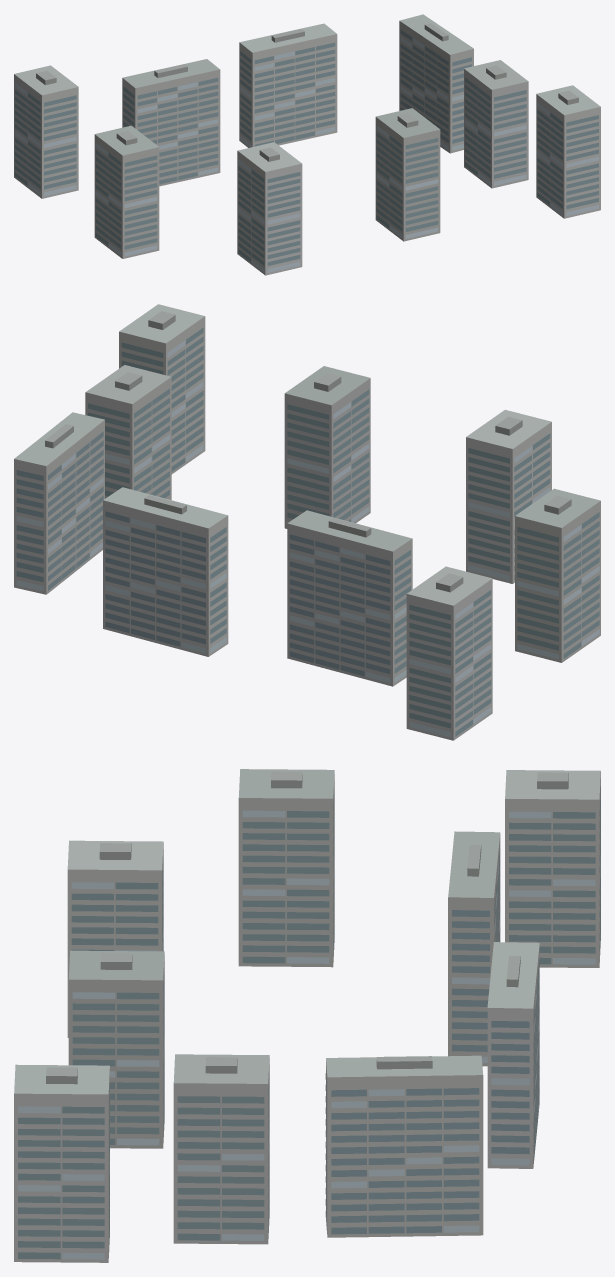
Rendered from apt-a13974103.glb.
3 views of the same model, one above another, from view 1: azimuth 30°, elevation 25°; view 2: azimuth 150°, elevation 25°; view 3: azimuth 270°, elevation 25° (orthographic). The views are drawn at different scales.
Parts seen in each view (by area): view 1: apt-a13974103; view 2: apt-a13974103; view 3: apt-a13974103.
Part boxes in pixels (<box>): apt-a13974103: <box>14,14,600,275</box>; apt-a13974103: <box>14,304,600,740</box>; apt-a13974103: <box>14,769,600,1262</box>.
Size of the model in its own units: 166 by 42 by 127.
